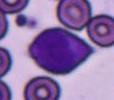L: (30, 28, 92, 74)
